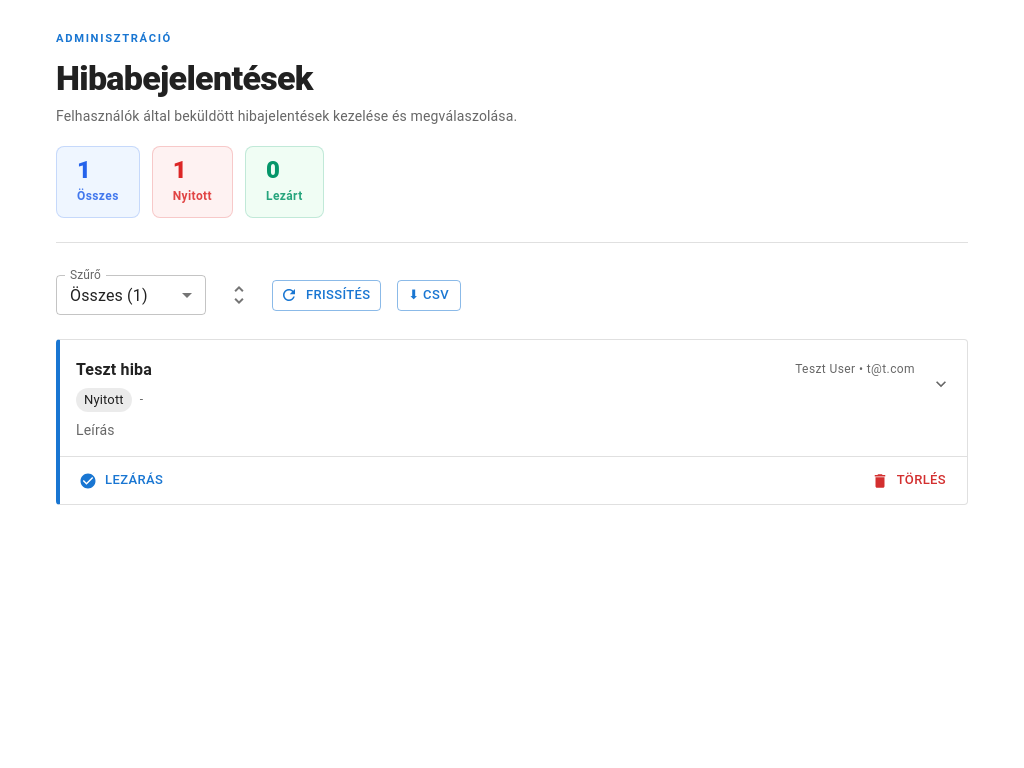
BugReports › delete flow shows confirm dialog then success snackbar
The width and height of the screenshot is (1024, 768).
Expected: the heading "Teszt hiba" is shown, [76,360,152,379]
Click the button "Törlés" at (909, 481), box [868,465,951,496]
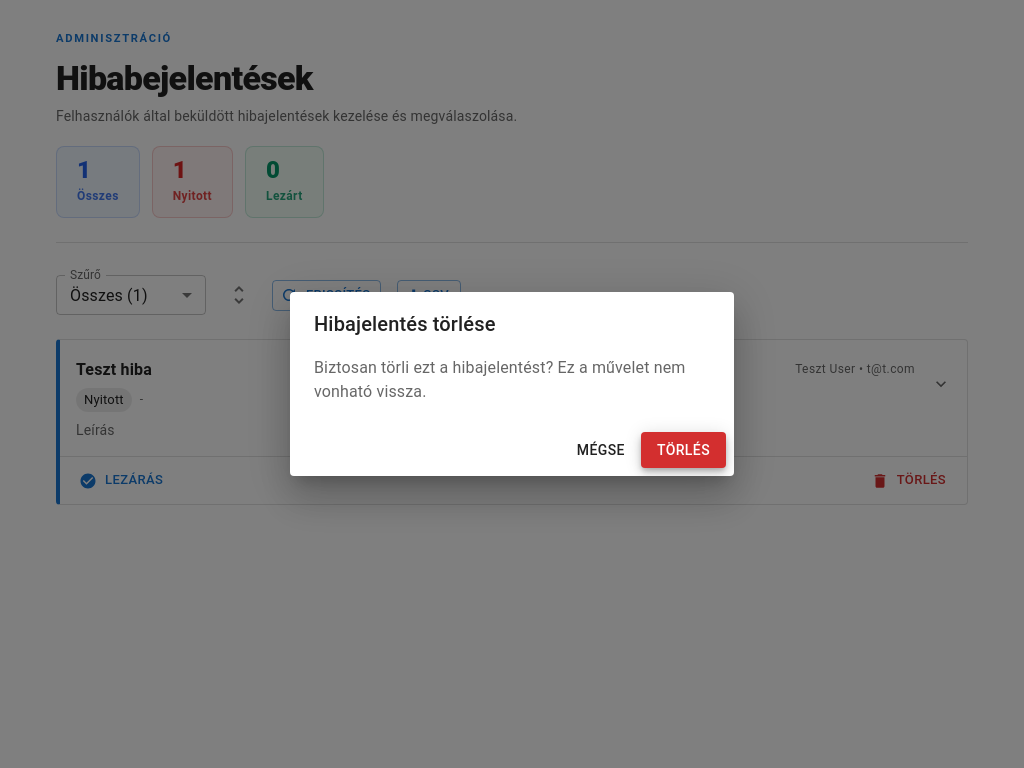
Result: the heading "Hibajelentés törlése" is shown at [314,312,496,336]
Click the button "Törlés" at (683, 450), box [641,432,726,468]
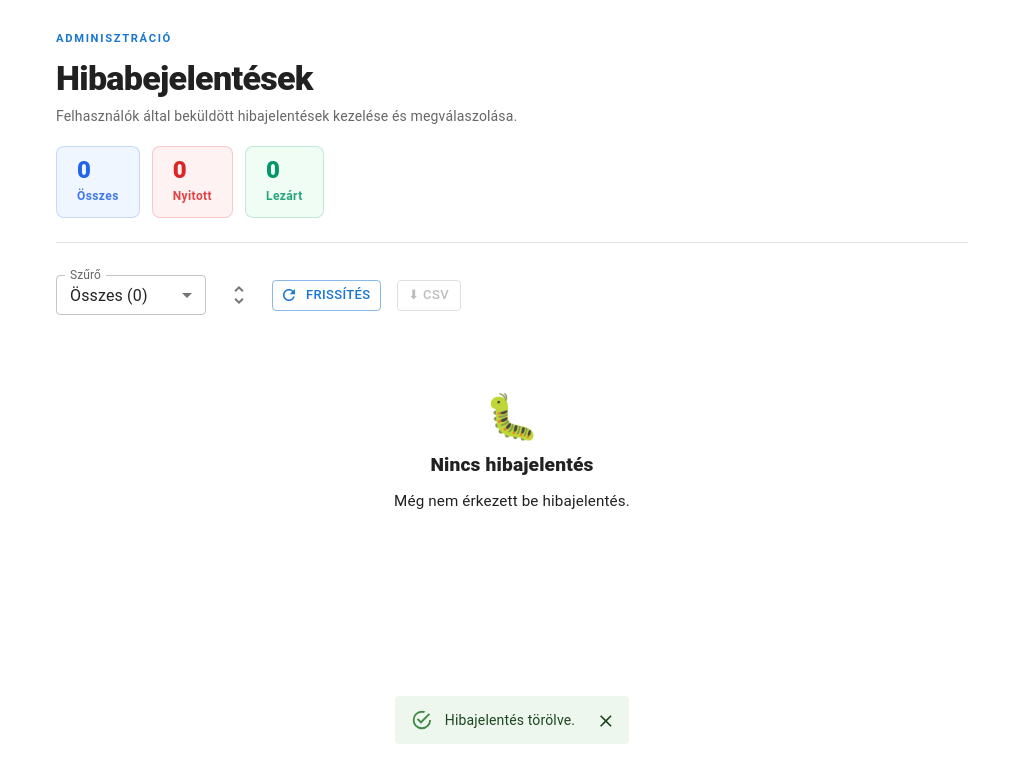
Result: the text "Hibajelentés törölve." is shown at [445,712,575,728]
